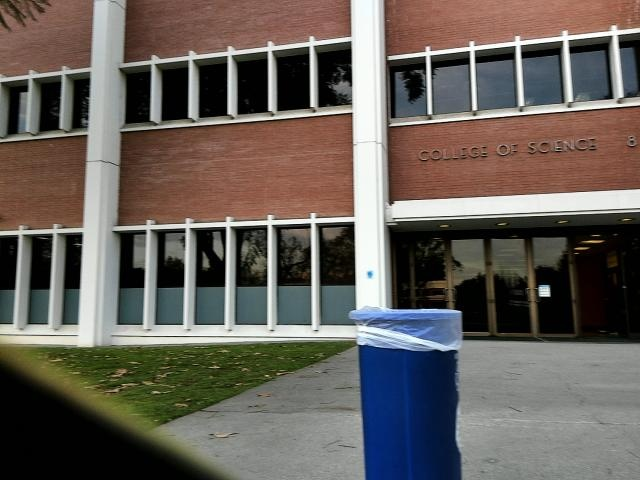trashcan_open: (341, 301, 476, 480)
